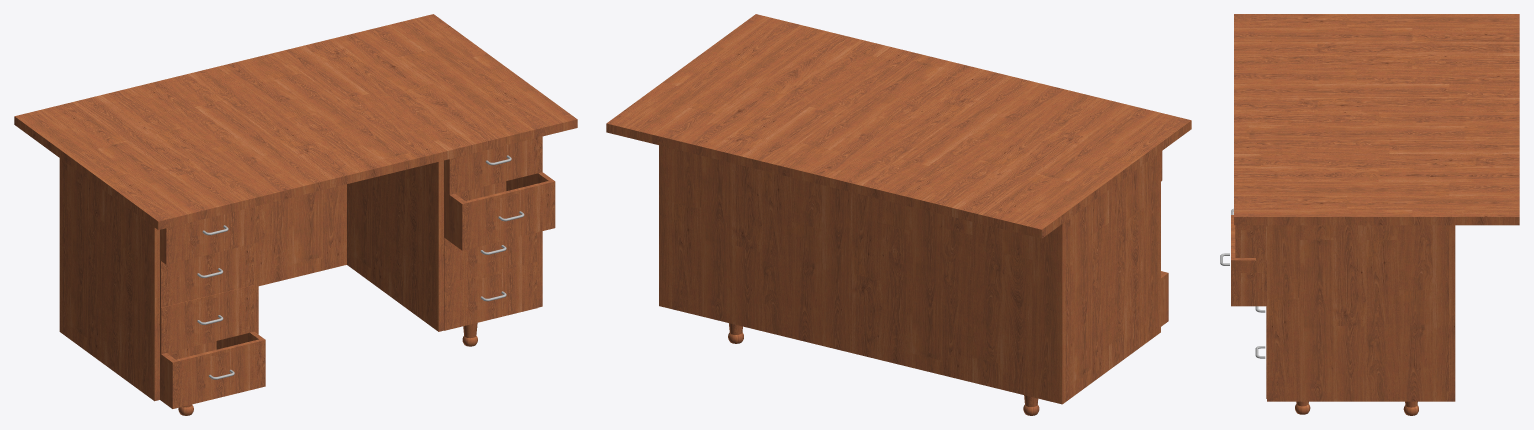
File: Desk.fbx
The picture shows the model from 3 angles, left to right: view 1: azimuth 30°, elevation 25°; view 2: azimuth 150°, elevation 25°; view 3: azimuth 270°, elevation 25°; orthographic projection. The views are drawn at different scales.
Visible parts, largest first — view 1: Group5, Group4, Group6, Group1, Drawer1, Drawer6, Drawer5, Drawer2, Drawer7, Drawer8, Drawer4, Drawer3; view 2: Group5, Group1, Group4; view 3: Group5, Group7, Drawer1, Group1, Drawer4.
Boxes of the visible parts, x1,y1,x2,y2 form: Group5: (14, 14, 577, 229); Group4: (62, 160, 159, 401); Group6: (347, 160, 443, 331); Group1: (59, 158, 346, 333); Drawer1: (444, 172, 555, 250); Drawer6: (160, 331, 265, 408); Drawer5: (160, 285, 254, 354); Drawer2: (444, 261, 537, 330); Drawer7: (160, 243, 254, 307); Drawer8: (160, 205, 259, 264); Drawer4: (444, 136, 542, 194); Drawer3: (444, 232, 537, 284); Group5: (606, 14, 1191, 238); Group1: (659, 145, 1065, 404); Group4: (1065, 152, 1160, 401); Group5: (1234, 14, 1519, 225); Group7: (1267, 225, 1448, 401); Drawer1: (1231, 215, 1266, 306); Group1: (1449, 225, 1455, 401); Drawer4: (1256, 225, 1266, 260).
Bounding box in the file's own units: 87.34 × 46.26 × 54.46.
